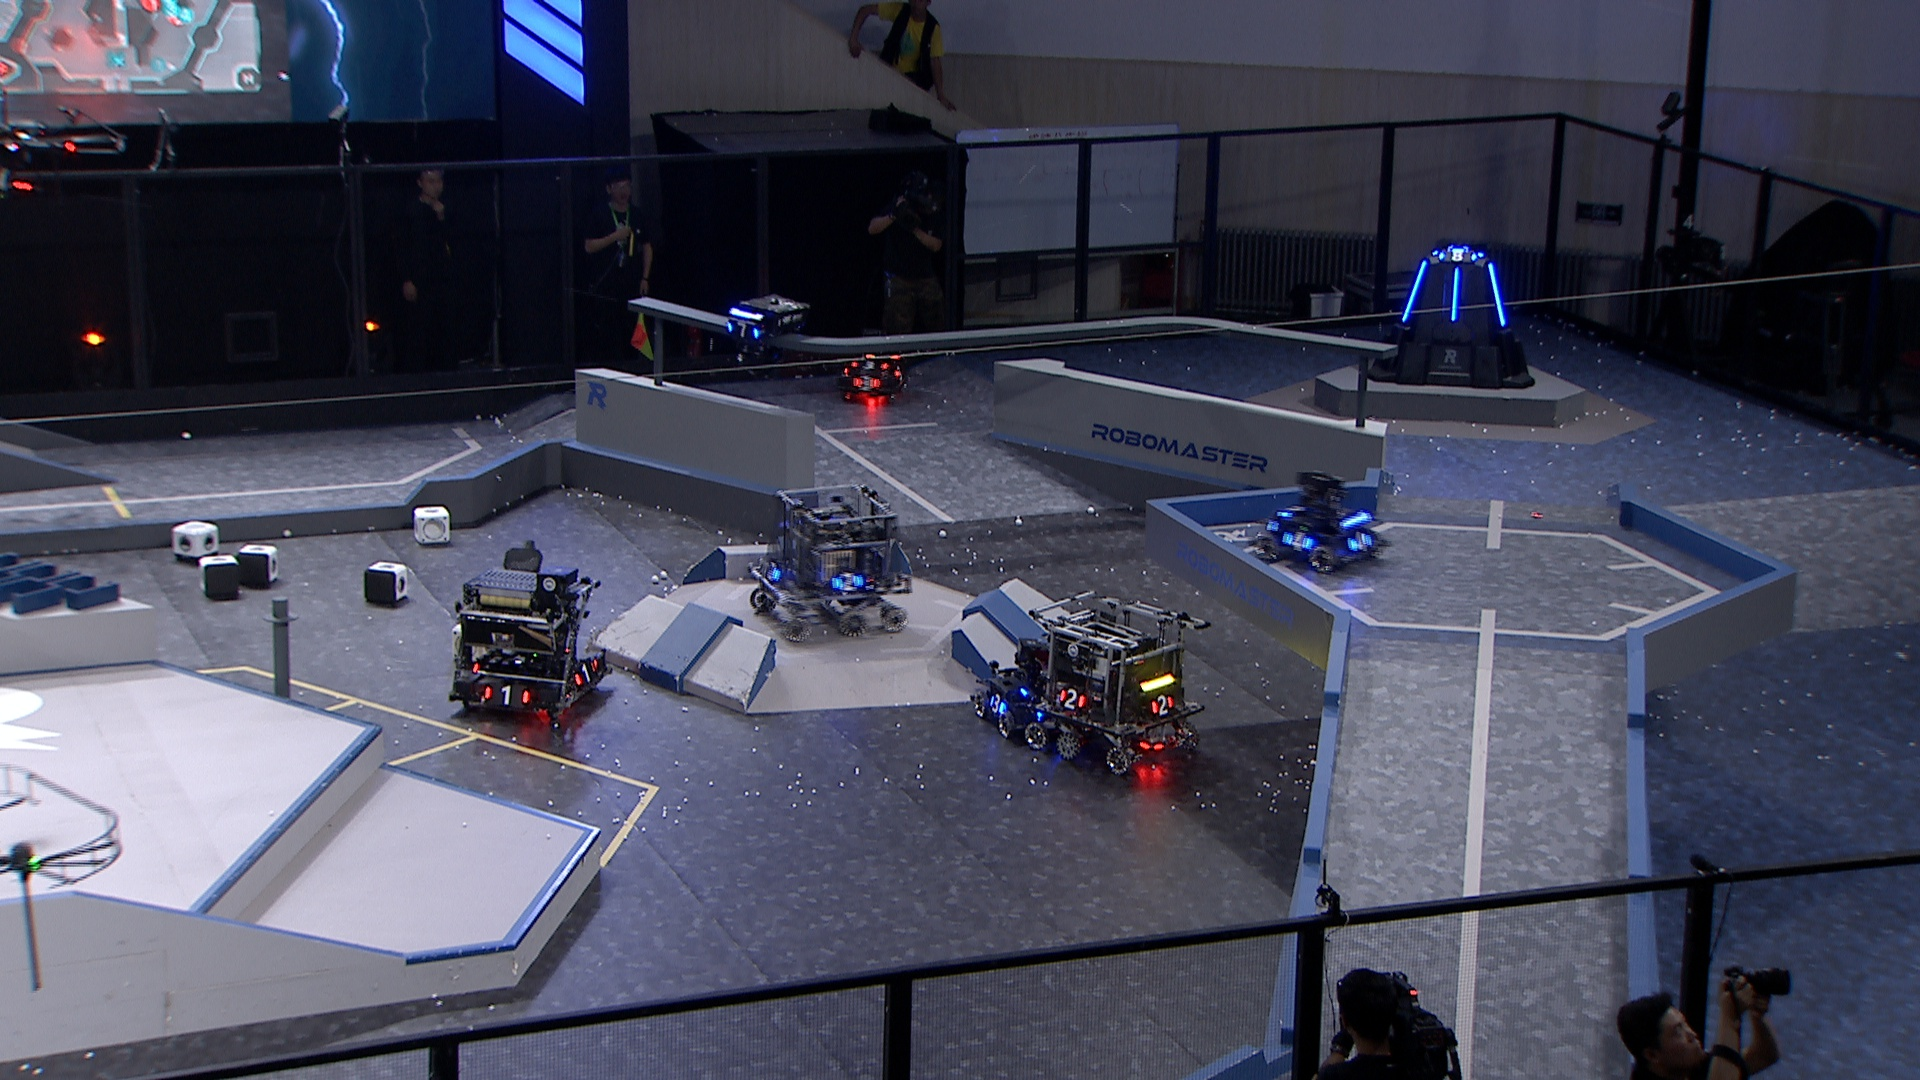armor: (1396, 256, 1429, 324), (1484, 261, 1509, 330), (481, 683, 531, 707), (727, 316, 764, 344), (1448, 264, 1462, 324), (1437, 247, 1481, 266), (827, 571, 865, 593), (571, 655, 596, 688), (1346, 529, 1373, 556), (1280, 529, 1311, 553), (1147, 694, 1176, 717), (1060, 684, 1084, 713), (851, 371, 880, 392), (849, 356, 887, 372), (1276, 500, 1305, 520), (986, 690, 1010, 713), (764, 560, 782, 584), (891, 363, 906, 385)
base: (1367, 243, 1539, 392)
car: (1019, 589, 1211, 777), (742, 481, 915, 647), (447, 553, 608, 728), (1250, 467, 1393, 575), (971, 640, 1073, 745), (832, 328, 920, 404)
watcher: (721, 291, 808, 378)
